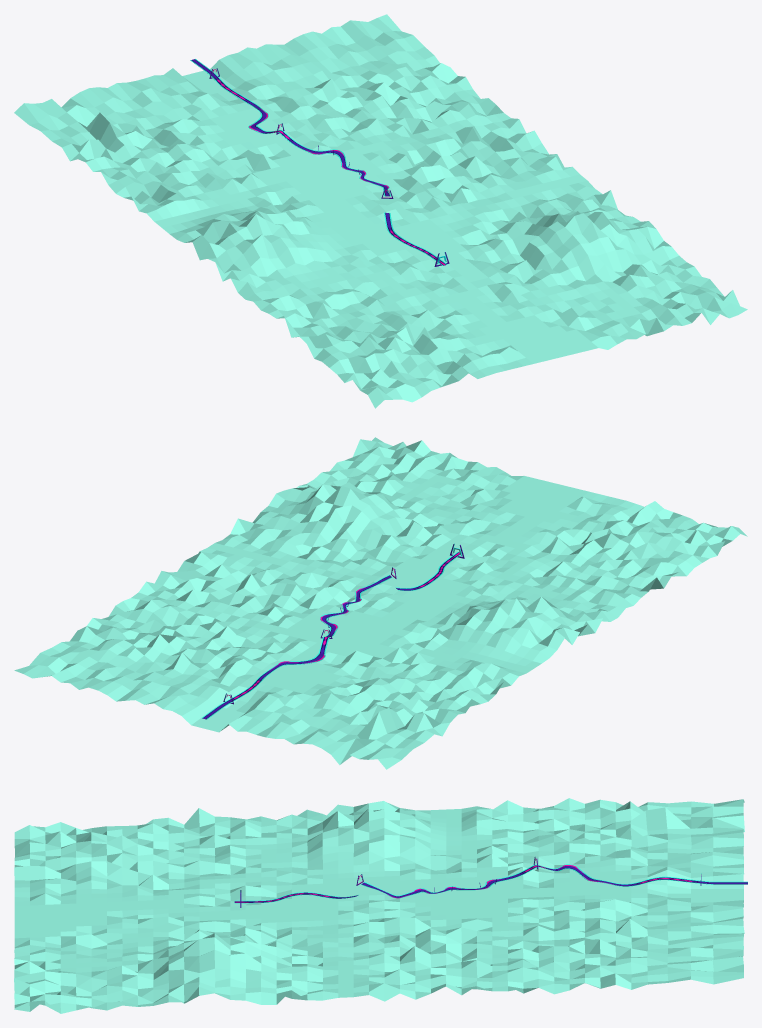
Rendered from Track_Mountains.FBX.
The picture shows the model from 3 angles, top to bottom: view 1: azimuth 30°, elevation 25°; view 2: azimuth 150°, elevation 25°; view 3: azimuth 270°, elevation 25°; orthographic projection.
Visible parts, largest first — view 1: sadsadasd; view 2: sadsadasd; view 3: sadsadasd.
Part boxes in pixels (box(x1,y1,x2,y2)): sadsadasd: box(14, 14, 747, 408); sadsadasd: box(14, 437, 747, 769); sadsadasd: box(14, 798, 747, 1013).
Size of the model in its own units: 100016 by 15233 by 168834.
